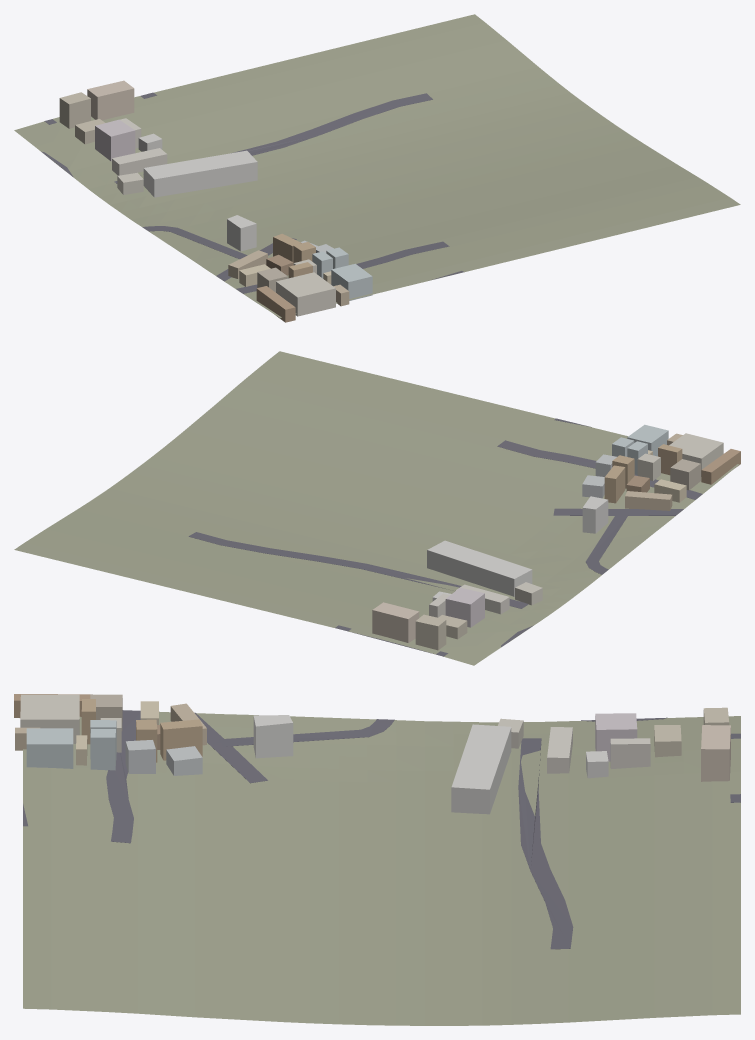
File: chunk_11_1.glb
3 renders of one model, top to bottom at view 1: azimuth 30°, elevation 25°; view 2: azimuth 150°, elevation 25°; view 3: azimuth 270°, elevation 25°, orthographic. The views are drawn at different scales.
Parts seen in each view (by area): view 1: geometry_27, geometry_8, geometry_24, geometry_31, geometry_6, geometry_4, geometry_23, geometry_5, geometry_0, geometry_26, geometry_25, geometry_28 (+2 smaller); view 2: geometry_27, geometry_8, geometry_31, geometry_6, geometry_4, geometry_24, geometry_28, geometry_0, geometry_26, geometry_34, geometry_14, geometry_25 (+7 smaller); view 3: geometry_27, geometry_8, geometry_31, geometry_28, geometry_24, geometry_23, geometry_26, geometry_6, geometry_4, geometry_13, geometry_2, geometry_34 (+8 smaller).
Boxes of the visible parts, box(x1,y1,x2,y2) form: geometry_27: box(14, 14, 740, 317); geometry_8: box(143, 150, 257, 197); geometry_24: box(276, 272, 335, 316); geometry_31: box(114, 93, 432, 183); geometry_6: box(87, 80, 134, 120); geometry_4: box(95, 119, 135, 161); geometry_23: box(331, 263, 372, 300); geometry_5: box(112, 148, 167, 175); geometry_0: box(59, 92, 90, 128); geometry_26: box(227, 215, 256, 251); geometry_25: box(256, 286, 295, 322); geometry_28: box(236, 241, 449, 293); geometry_27: box(14, 351, 739, 665); geometry_8: box(427, 540, 532, 596); geometry_31: box(188, 532, 528, 608); geometry_6: box(372, 602, 419, 642); geometry_4: box(445, 587, 484, 627); geometry_24: box(669, 433, 723, 476); geometry_28: box(497, 440, 702, 499); geometry_0: box(415, 614, 446, 650); geometry_26: box(582, 496, 608, 533); geometry_34: box(585, 512, 628, 574); geometry_14: box(625, 491, 672, 510); geometry_25: box(701, 449, 740, 484); geometry_27: box(23, 711, 740, 1025); geometry_8: box(451, 724, 511, 814); geometry_31: box(518, 738, 573, 949); geometry_28: box(106, 710, 140, 843); geometry_24: box(20, 694, 79, 743); geometry_23: box(26, 728, 73, 768); geometry_26: box(253, 715, 293, 758); geometry_6: box(701, 725, 730, 781); geometry_4: box(595, 713, 637, 761); geometry_13: box(160, 719, 202, 760); geometry_2: box(610, 738, 650, 768); geometry_34: box(219, 719, 394, 746).
Size of the model in its own units: 250 by 18.32 by 253.
